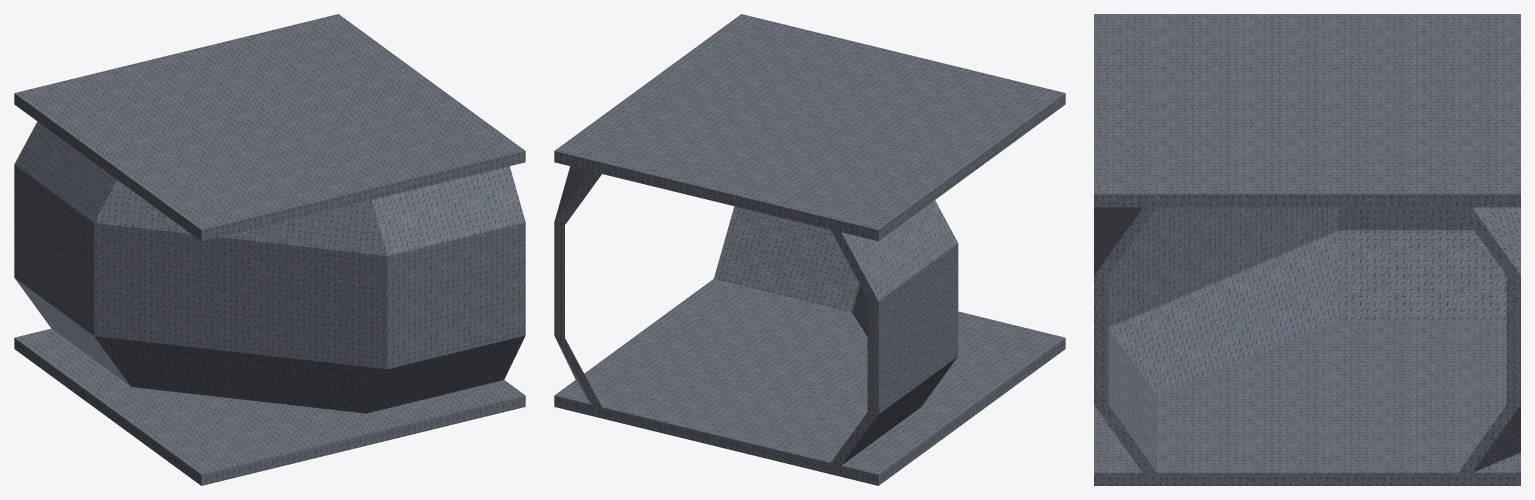
3 views of the same model, side by side, from view 1: azimuth 30°, elevation 25°; view 2: azimuth 150°, elevation 25°; view 3: azimuth 270°, elevation 25° (orthographic). The views are drawn at different scales.
Visible parts, largest first — view 1: SketchUp_ID3; view 2: SketchUp_ID3; view 3: SketchUp_ID3.
Boxes of the visible parts, x1=… form: SketchUp_ID3: x1=14, y1=14, x2=525, y2=485; SketchUp_ID3: x1=554, y1=14, x2=1065, y2=485; SketchUp_ID3: x1=1094, y1=14, x2=1520, y2=485.
Size of the model in its own units: 3 by 2.26 by 3.
Materials: 1 (1 with a texture image).
